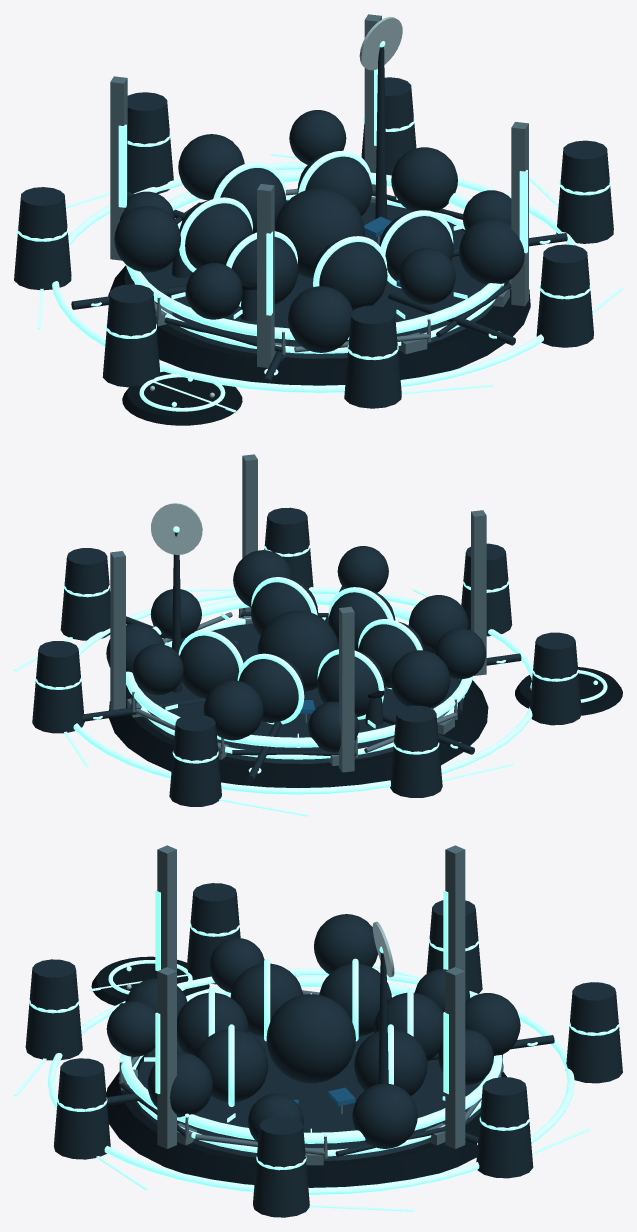
File: deuteriumTank-stage4.glb
3 views of the same model, one above another, from view 1: azimuth 30°, elevation 25°; view 2: azimuth 150°, elevation 25°; view 3: azimuth 270°, elevation 25° (orthographic). The views are drawn at different scales.
Parts seen in each view (by area): view 1: fuel-tank (×7), armored-foundation, upper-deck, refinery-annex-0, refinery-annex-6, refinery-annex-2, district-grid-3, refinery-annex-1, refinery-annex-5, refinery-annex-3, landing-pad, logistics-ring (+25 smaller); view 2: fuel-tank (×7), armored-foundation, upper-deck, district-grid-3, refinery-annex-3, refinery-annex-2, refinery-annex-1, refinery-annex-4, refinery-annex-5, logistics-ring, mega-fuel-cell-5, mega-fuel-cell-7 (+21 smaller); view 3: fuel-tank (×7), armored-foundation, upper-deck, district-grid-3, refinery-annex-5, refinery-annex-4, refinery-annex-6, refinery-annex-0, refinery-annex-3, logistics-ring, refinery-annex-1, mega-pylon-3 (+19 smaller).
Boxes of the visible parts, box(x1,y1,x2,y2) form: fuel-tank (×7): box(179, 154, 453, 310); armored-foundation: box(108, 200, 530, 385); upper-deck: box(141, 200, 504, 358); refinery-annex-0: box(344, 305, 401, 408); refinery-annex-6: box(536, 244, 593, 347); refinery-annex-2: box(14, 187, 71, 290); district-grid-3: box(52, 162, 578, 392); refinery-annex-1: box(102, 284, 160, 387); refinery-annex-5: box(556, 140, 613, 243); refinery-annex-3: box(127, 92, 173, 193); landing-pad: box(122, 370, 242, 425); logistics-ring: box(126, 170, 503, 340); fuel-tank (×7): box(180, 579, 424, 722); armored-foundation: box(109, 624, 488, 787); upper-deck: box(137, 623, 463, 763); district-grid-3: box(73, 587, 533, 794); refinery-annex-3: box(169, 714, 221, 806); refinery-annex-2: box(390, 705, 442, 797); refinery-annex-1: box(530, 632, 581, 725); refinery-annex-4: box(32, 641, 84, 733); refinery-annex-5: box(60, 548, 110, 640); logistics-ring: box(126, 594, 472, 747); mega-fuel-cell-5: box(390, 650, 450, 707); mega-fuel-cell-7: box(203, 680, 263, 740); fuel-tank (×7): box(177, 963, 443, 1102); armored-foundation: box(106, 1056, 506, 1187); upper-deck: box(134, 1031, 484, 1160); district-grid-3: box(47, 968, 574, 1194); refinery-annex-5: box(253, 1116, 309, 1217); refinery-annex-4: box(476, 1077, 533, 1178); refinery-annex-6: box(54, 1058, 110, 1159); refinery-annex-0: box(25, 959, 82, 1060); refinery-annex-3: box(566, 982, 622, 1083); logistics-ring: box(120, 975, 502, 1143); refinery-annex-1: box(186, 883, 240, 984); mega-pylon-3: box(445, 967, 465, 1148).
Bounding box in the file's own units: 17.37 × 7.06 × 17.08.
